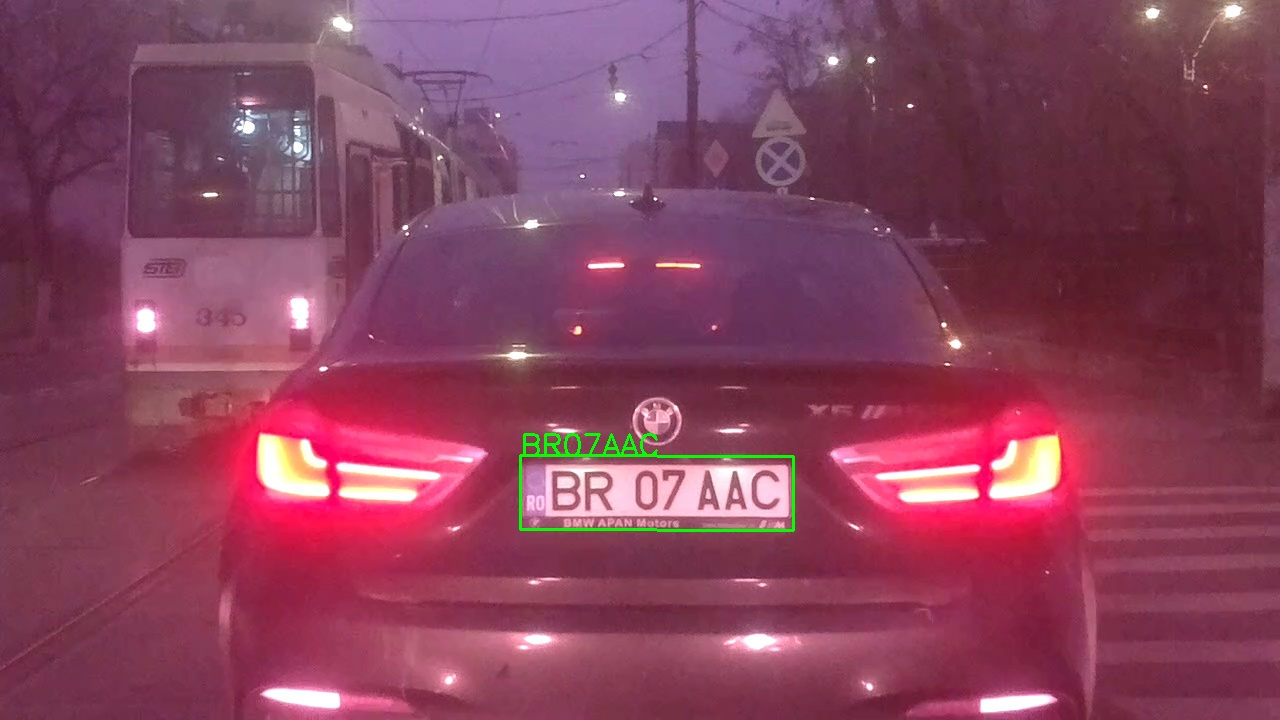license-plate: (519, 455, 795, 532)
